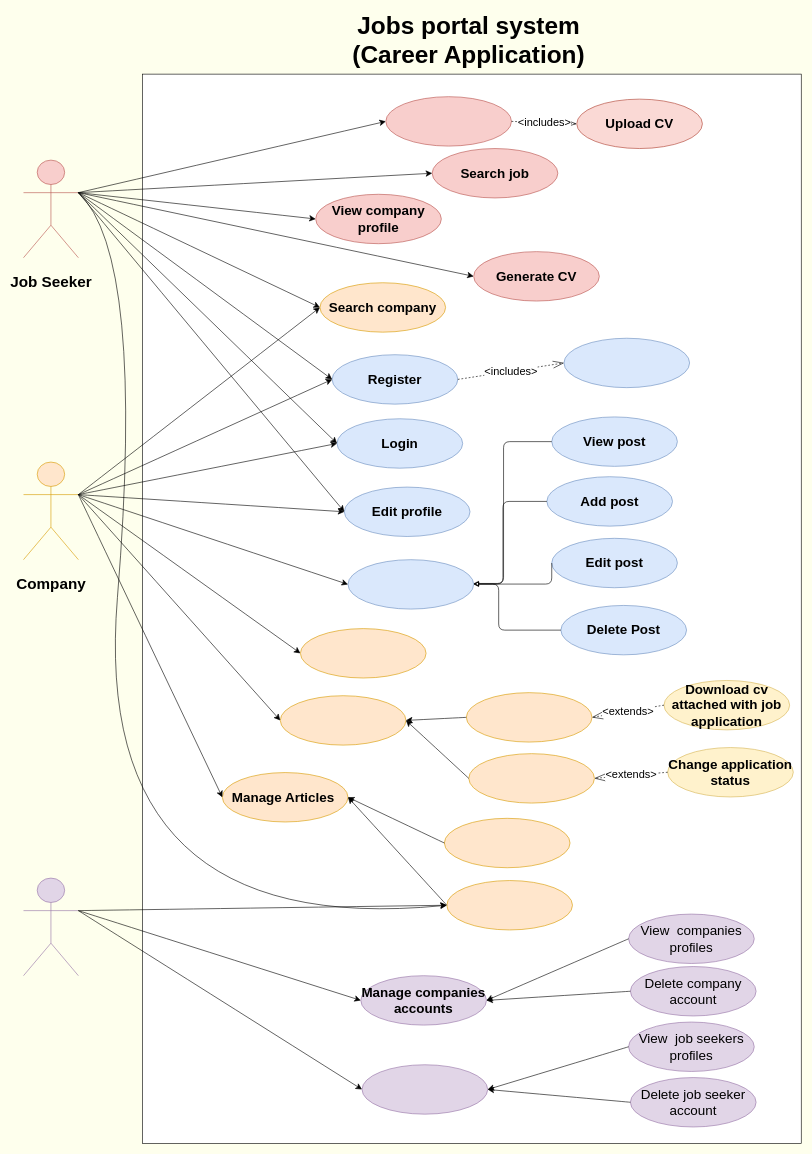
The diagram is 812 pixels wide and 1154 high, and some of its shapes have lost their labels. Here are the shapes that lost their labels. From the top down, the centre of each, then its label:
At (x=448, y=121): "Apply on Job".
At (x=626, y=363): "Verification".
At (x=410, y=584): "Manage posts".
At (x=363, y=653): "Create job".
At (x=343, y=720): "Manage job applications".
At (x=529, y=717): "View job application".
At (x=531, y=778): "Edit job application".
At (x=507, y=843): "Create Edit and Delete Article".
At (x=509, y=905): "View articles".
At (x=50, y=926): "Admin".
At (x=424, y=1089): "Manage job seekers accoutns".
